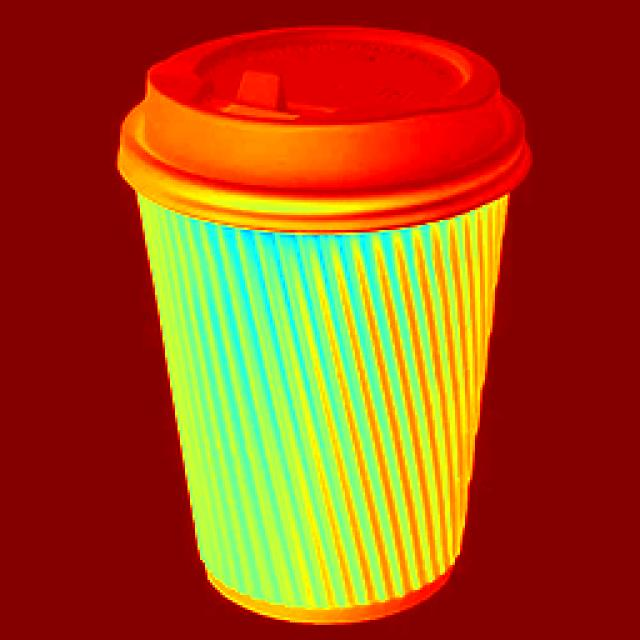Paper Cups: (96, 0, 537, 636)
